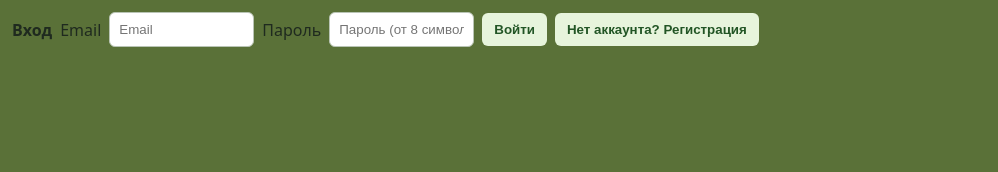
Test: Форма входа — MSW › не отправляет невалидный ввод (wrong-email)
In the field labelled "Email": (182, 30) [109,12,254,47], type "wrong-email"
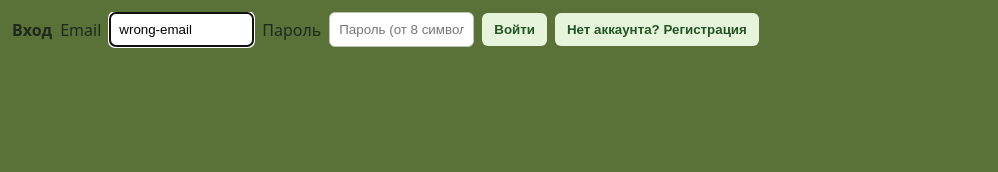
In the password field labelled "Пароль": (402, 30) [329,12,474,47], type "secret123"
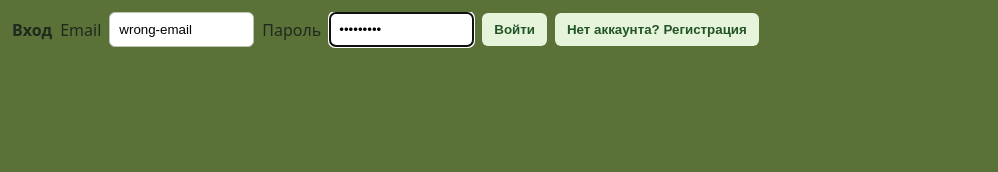
Click the button "Войти": (515, 30) [482,13,547,46]
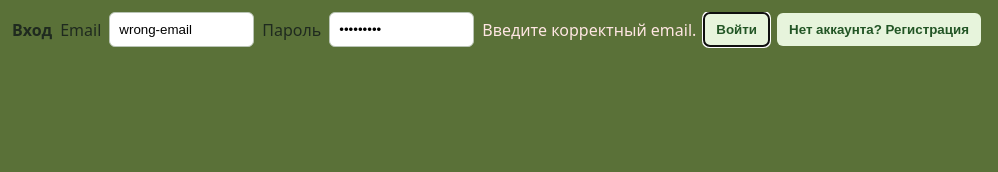
Check: the message shows "корректный email", box [482,18,696,40]
